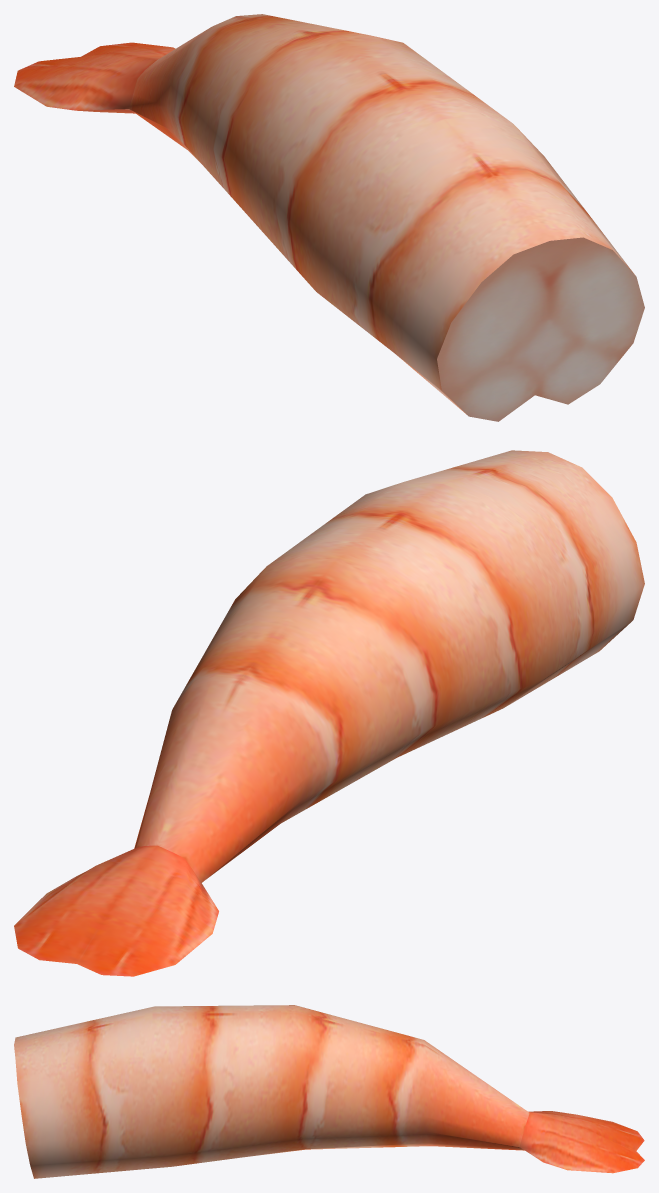
The model's file is Shrimp 01.fbx.
3 renders of one model, top to bottom at view 1: azimuth 30°, elevation 25°; view 2: azimuth 150°, elevation 25°; view 3: azimuth 270°, elevation 25°, orthographic. The views are drawn at different scales.
Parts seen in each view (by area): view 1: tom; view 2: tom; view 3: tom.
Boxes of the visible parts, box(x1,y1,x2,y2) form: tom: box(14, 14, 644, 421); tom: box(14, 450, 644, 976); tom: box(14, 1005, 644, 1178).
Size of the model in its own units: 1.63 by 1.55 by 5.79.
Materials: 1 (1 with a texture image).
